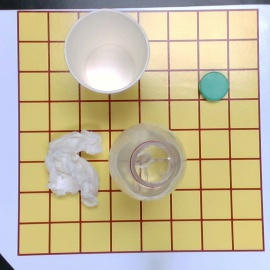bottle: (109, 124, 186, 203)
cup: (63, 10, 151, 94)
green: (199, 72, 229, 100)
